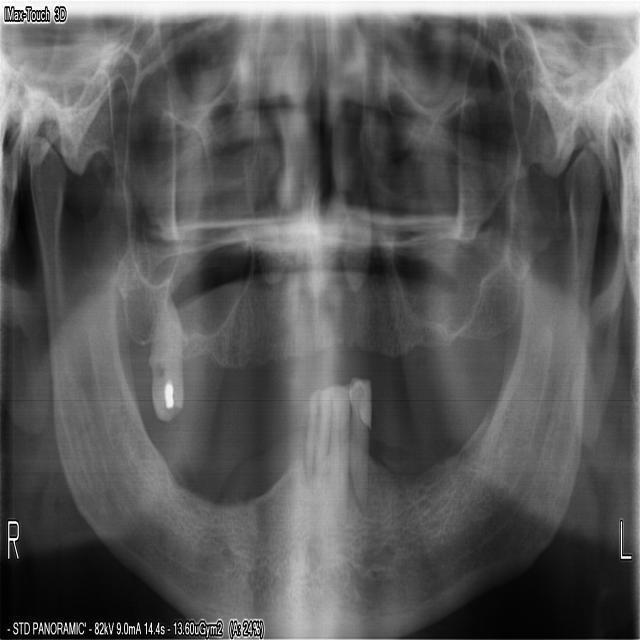LID: (346, 360, 372, 517)
RID: (300, 375, 330, 501), (325, 370, 350, 520)
RMU: (147, 282, 187, 428)
